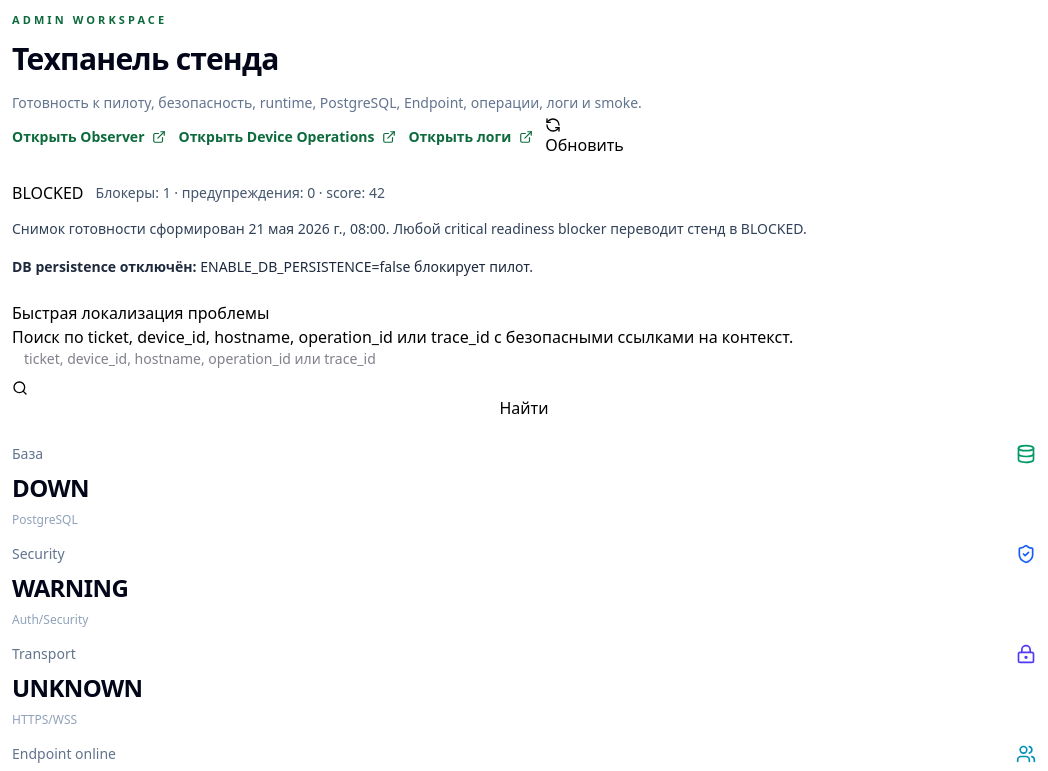
Scenario: AdminTechPage v2 › renders quick locator and ticket/device links
expect the text "BLOCKED" is shown: met, box x1=12 y1=180 x2=84 y2=204
Type "T-910571" into the search field with placeholder "ticket, device_id, hostname, operation_id или trace_id".
click(524, 358); type("T-910571")  # box x1=12 y1=348 x2=1036 y2=368
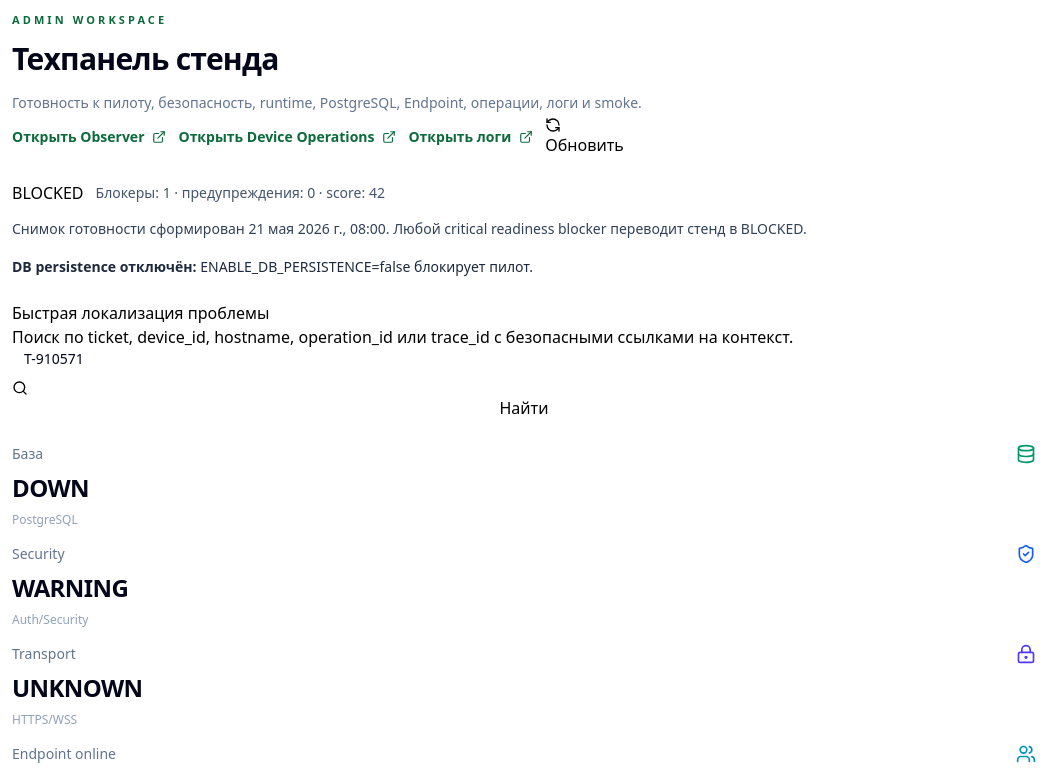
Click the button "Найти".
click(524, 400)  # box x1=12 y1=380 x2=1036 y2=420
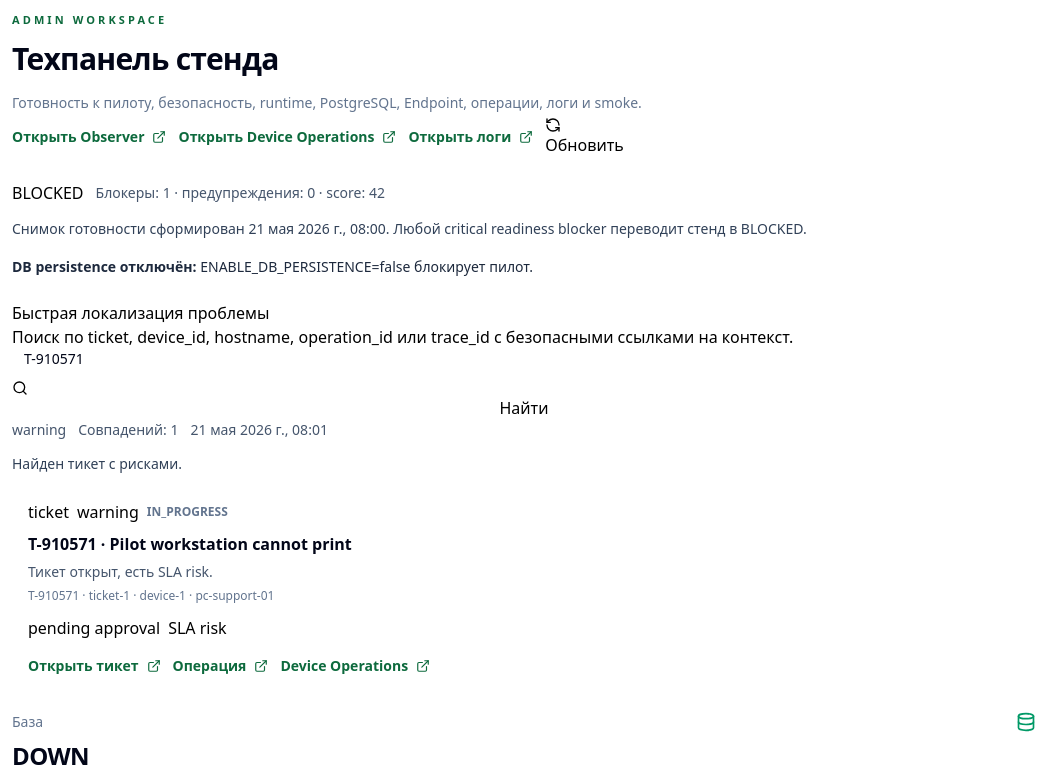
expect the text "T-910571 · Pilot workstation cannot print" is shown: met, box x1=28 y1=532 x2=352 y2=556
